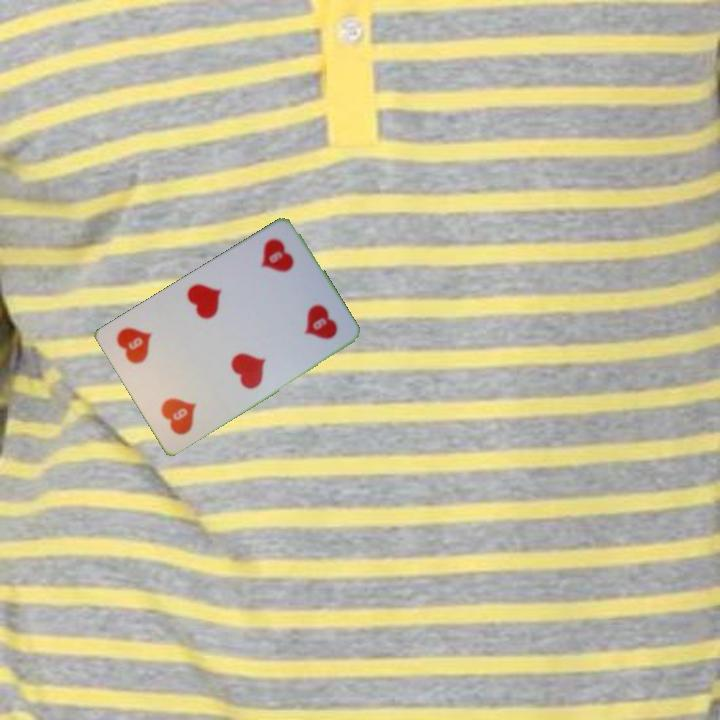h_6.png: (237, 226, 319, 312), (138, 359, 220, 444)
